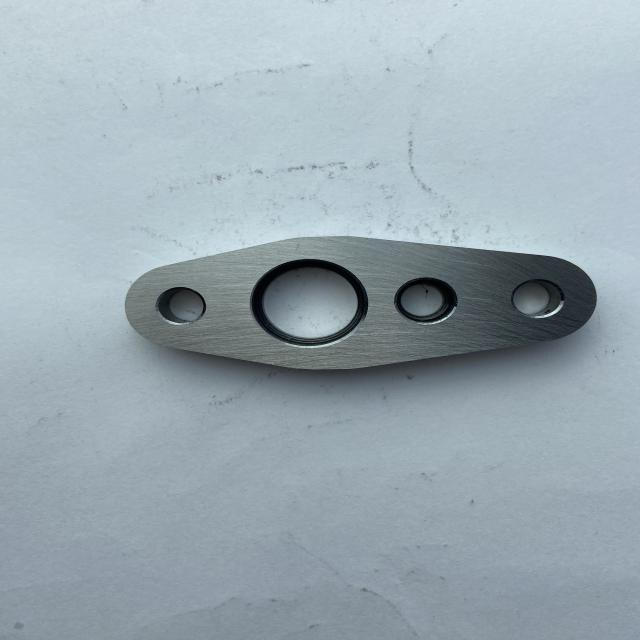lines: (472, 304, 512, 344), (399, 334, 470, 352), (556, 312, 585, 324)
